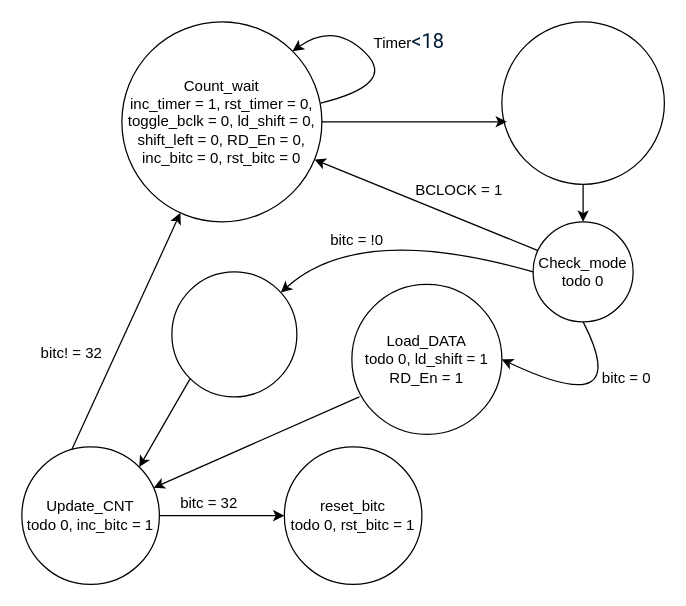
The diagram is 686 pixels wide and 606 high, and some of its shapes have lost their labels. The centre of each missing label's shape, as x and y in pixels:
Shift_DATA Shift_left = 1, todo 0: [234,334]
toggle_CLK todo 0, rst_timer = 1 toggle_bclk = 1: [582,102]
